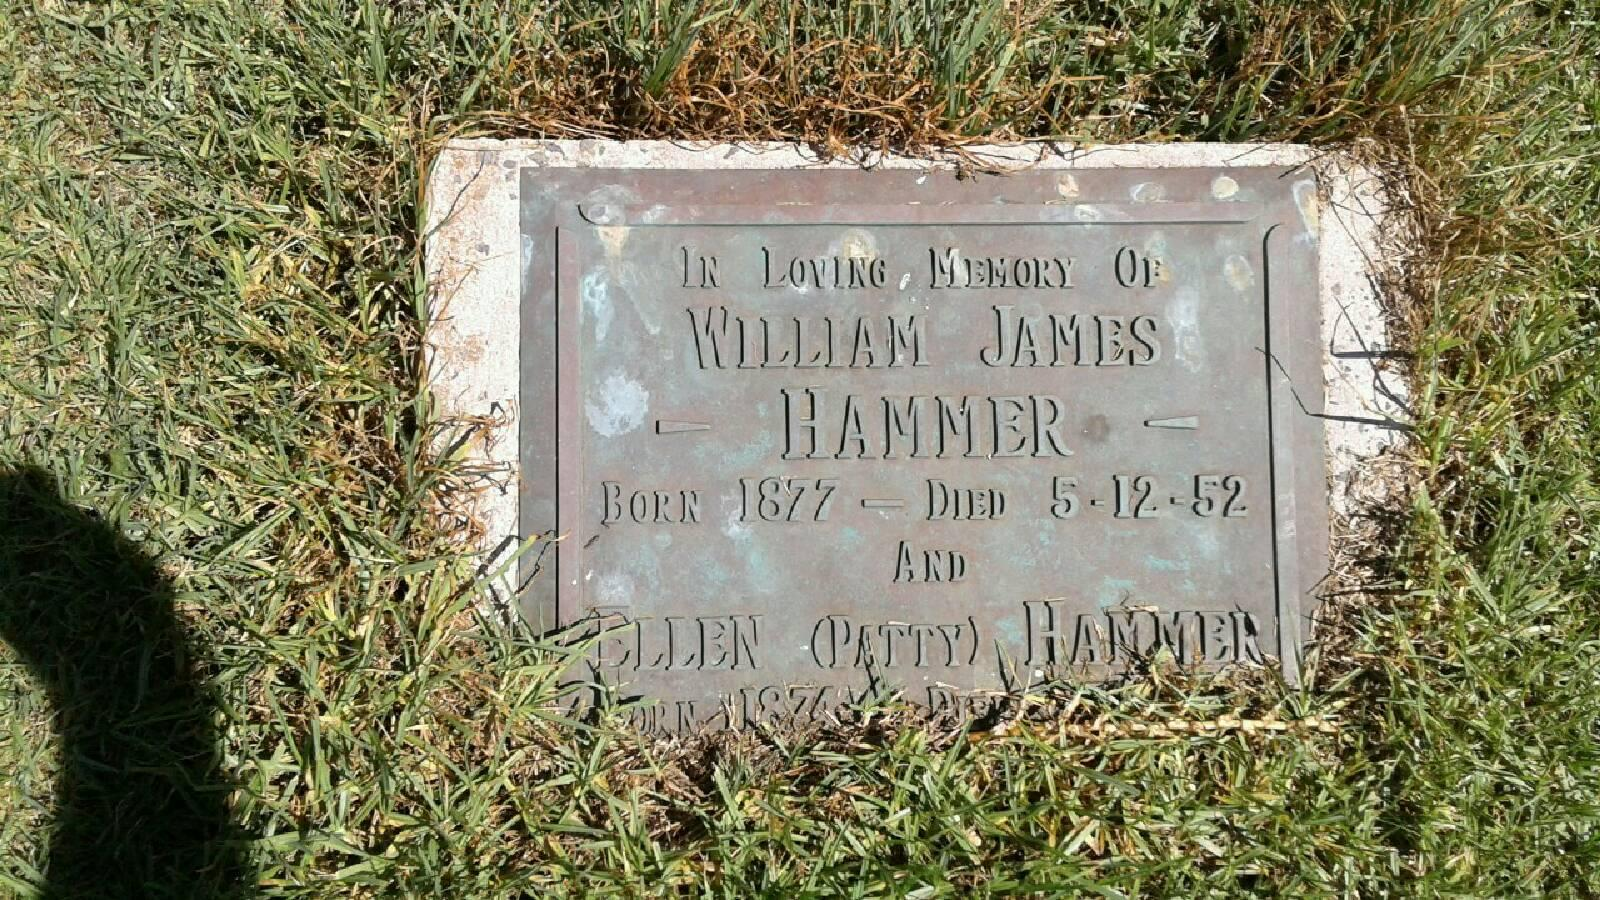flat: (511, 157, 1345, 736)
